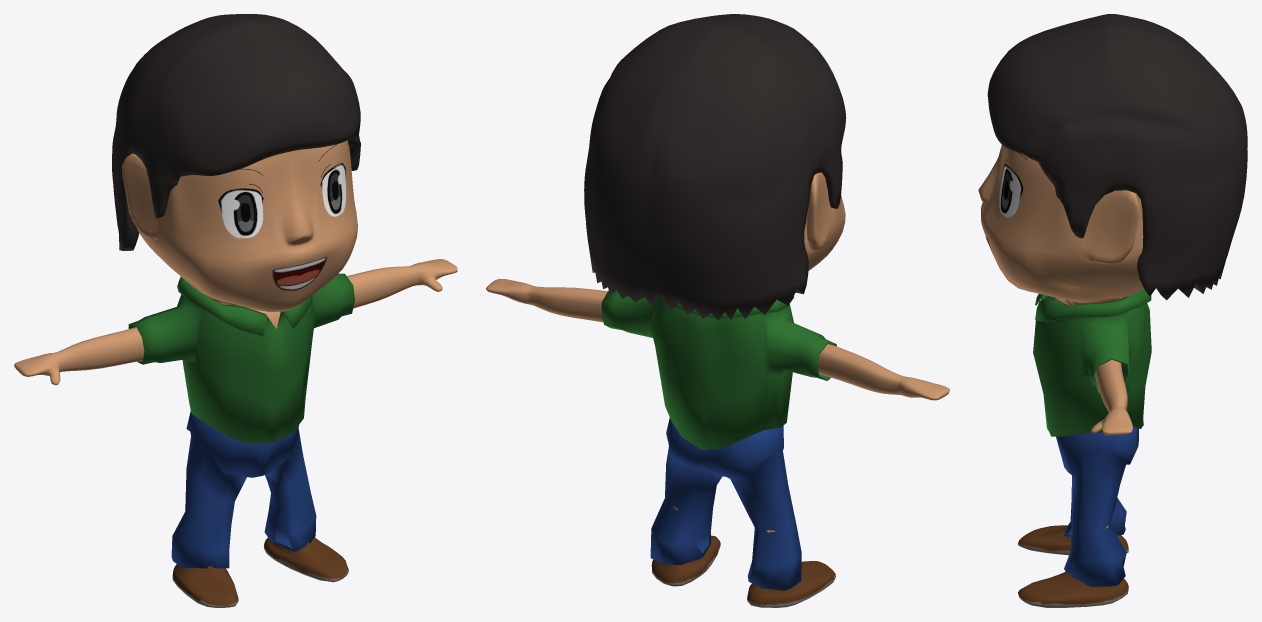
File: chiby.glb
3 views of the same model, side by side, from view 1: azimuth 30°, elevation 25°; view 2: azimuth 150°, elevation 25°; view 3: azimuth 270°, elevation 25° (orthographic). The views are drawn at different scales.
Visible parts, largest first — view 1: Body, Rambut jadi, Baju, Celana; view 2: Rambut jadi, Baju, Celana, Body; view 3: Rambut jadi, Body, Baju, Celana.
Boxes of the visible parts, x1,y1,x2,y2 form: Body: (14, 140, 457, 607); Rambut jadi: (112, 14, 360, 250); Baju: (128, 273, 354, 443); Celana: (171, 410, 316, 568); Rambut jadi: (584, 14, 846, 320); Baju: (601, 290, 836, 450); Celana: (650, 417, 801, 590); Body: (486, 172, 949, 607); Rambut jadi: (987, 14, 1247, 300); Body: (978, 144, 1143, 607); Baju: (1033, 289, 1151, 436); Celana: (1056, 426, 1138, 586).
Size of the model in its own units: 2.17 by 2.58 by 1.15.
Materials: 4 (1 with a texture image).
